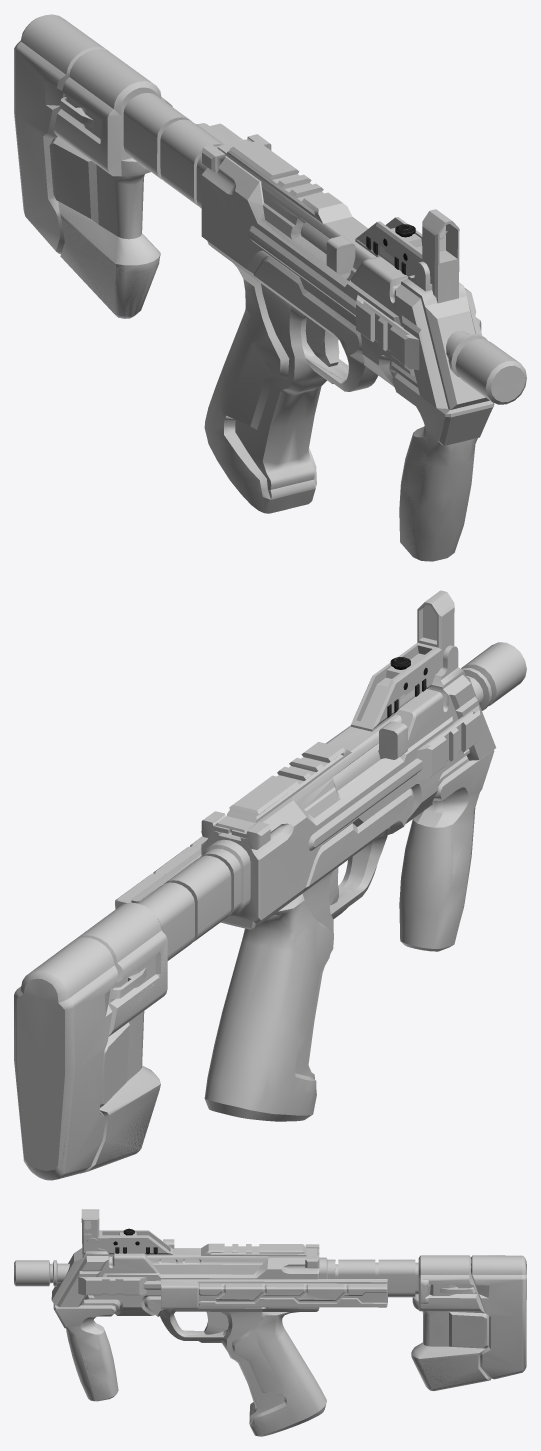
Rendered from M7T_1stP_Rigged.fbx.
3 renders of one model, top to bottom at view 1: azimuth 30°, elevation 25°; view 2: azimuth 150°, elevation 25°; view 3: azimuth 270°, elevation 25°, orthographic. The views are drawn at different scales.
Visible parts, largest first — view 1: MainBody; view 2: MainBody; view 3: MainBody, Magazine1, Magazine2.
Part boxes in pixels (bbox=[...]): MainBody: bbox=[14, 14, 526, 561]; MainBody: bbox=[14, 590, 526, 1180]; MainBody: bbox=[14, 1209, 526, 1436]; Magazine1: bbox=[199, 1283, 387, 1307]; Magazine2: bbox=[199, 1283, 387, 1307].
Bounding box in the file's own units: 7.36 × 30.23 × 63.17.
